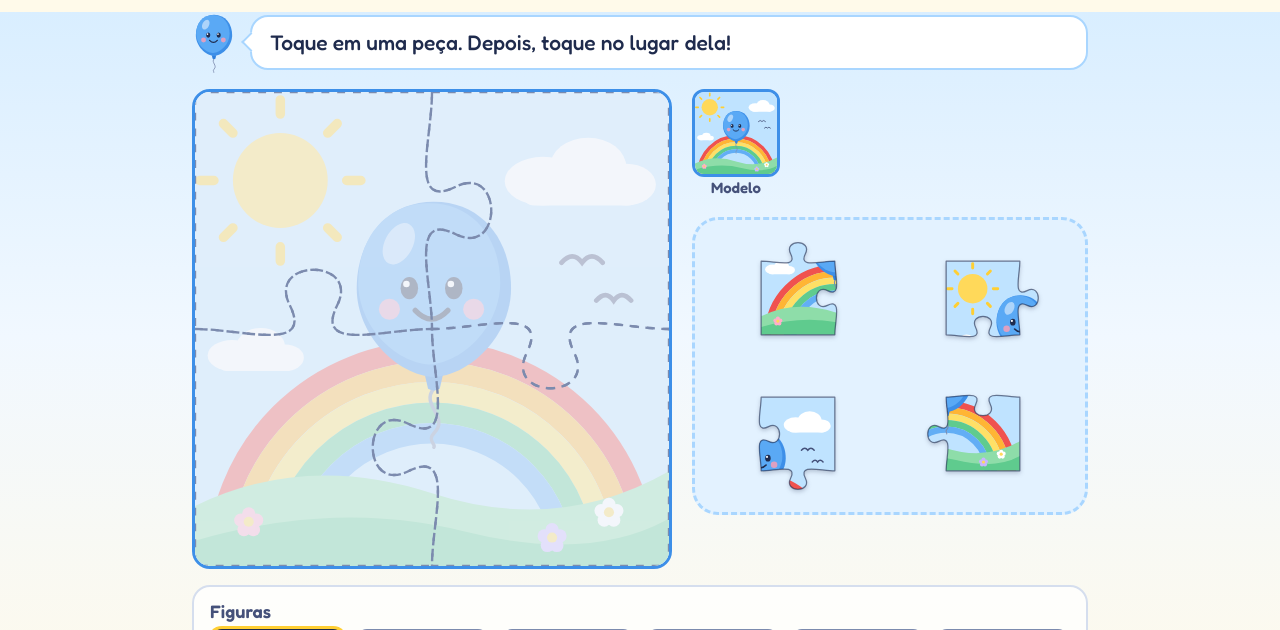
Test: Quebra-Cabeça do João › em outro lugar a peça não se fixa, sem penalidade nenhuma
Step 1. Click the button named "Peça da " → (798,298), box [734, 234, 862, 362]
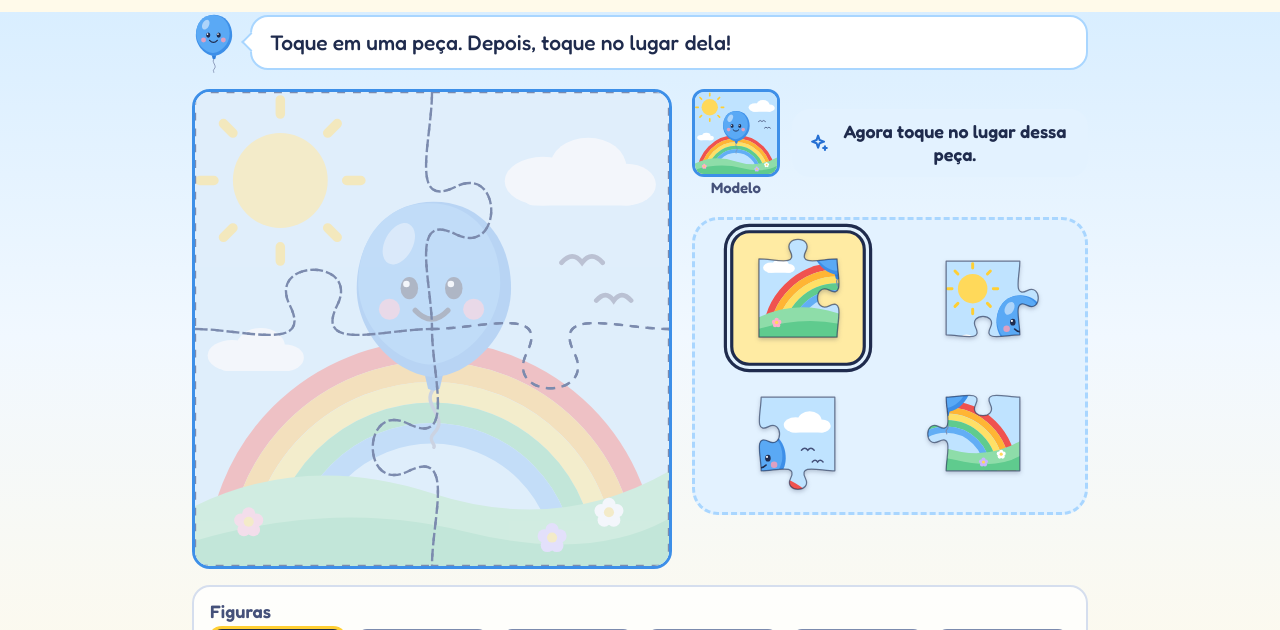
Step 2. Click the button named "Lugar da linha 1, coluna 1" → (314,210), box [195, 92, 432, 328]
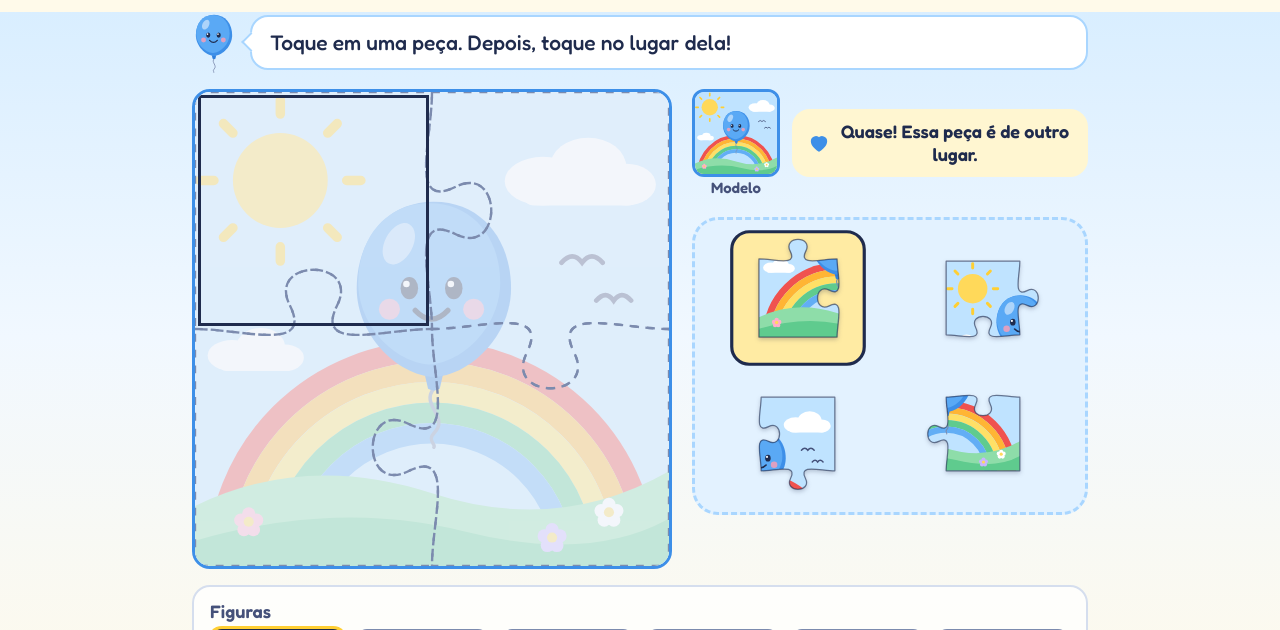
Expected: the number of buttons named "Peça da " is 4, [730, 230, 865, 365]; [918, 234, 1046, 362]; [734, 370, 862, 498]; [918, 370, 1046, 498]
Expected: the message shows "outro lugar", [841, 120, 1069, 164]
